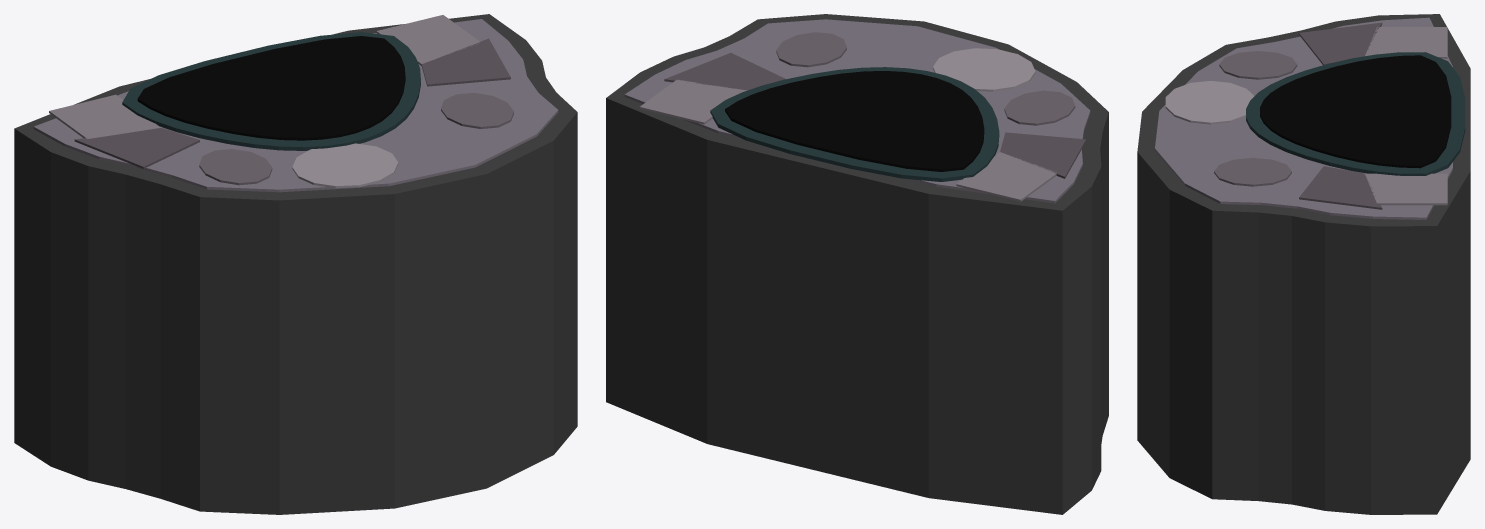
Rendered from bag_caverna.fbx.
3 views of the same model, side by side, from view 1: azimuth 30°, elevation 25°; view 2: azimuth 150°, elevation 25°; view 3: azimuth 270°, elevation 25° (orthographic). The views are drawn at different scales.
Parts seen in each view (by area): view 1: bag_caverna_mochila; view 2: bag_caverna_mochila; view 3: bag_caverna_mochila.
Part boxes in pixels (box(x1,y1,x2,y2)): bag_caverna_mochila: box(14, 14, 577, 514); bag_caverna_mochila: box(606, 14, 1108, 514); bag_caverna_mochila: box(1137, 14, 1470, 514).
Bounding box in the file's own units: 2.84 × 1.86 × 1.88.
1 material, 1 textured.
